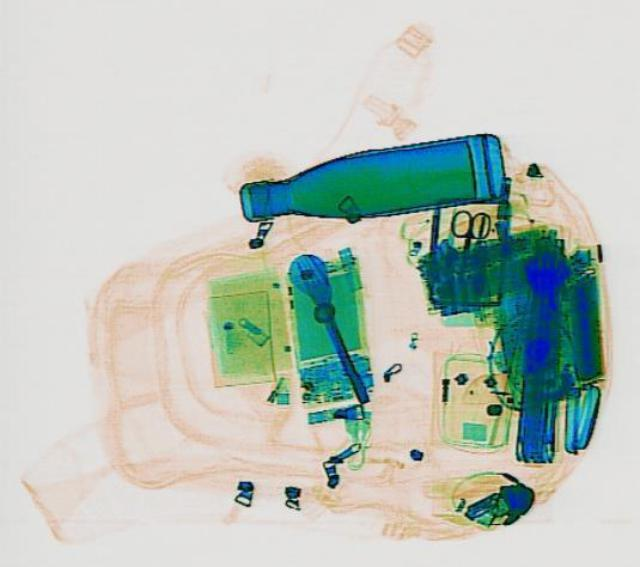Scissors: (438, 208, 492, 284)
